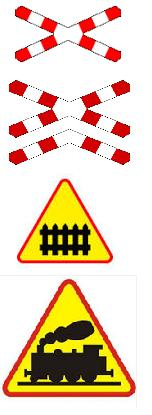a10: (15, 318, 124, 389)
a9: (38, 222, 93, 259)
